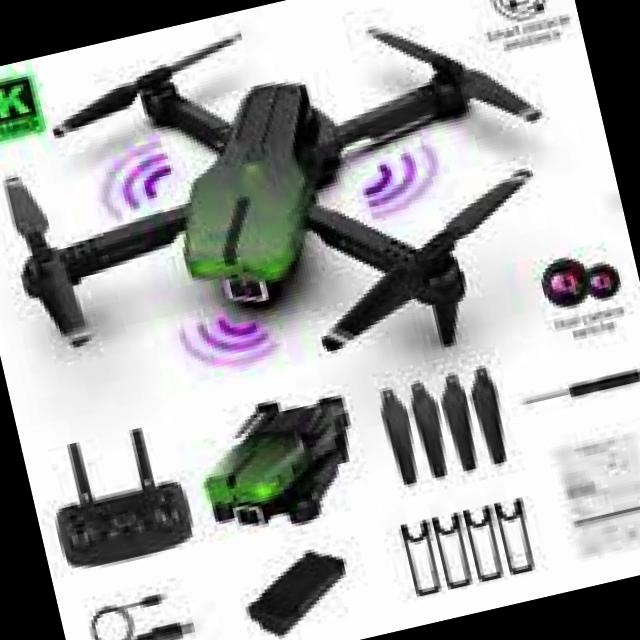drone: (0, 0, 575, 452)
